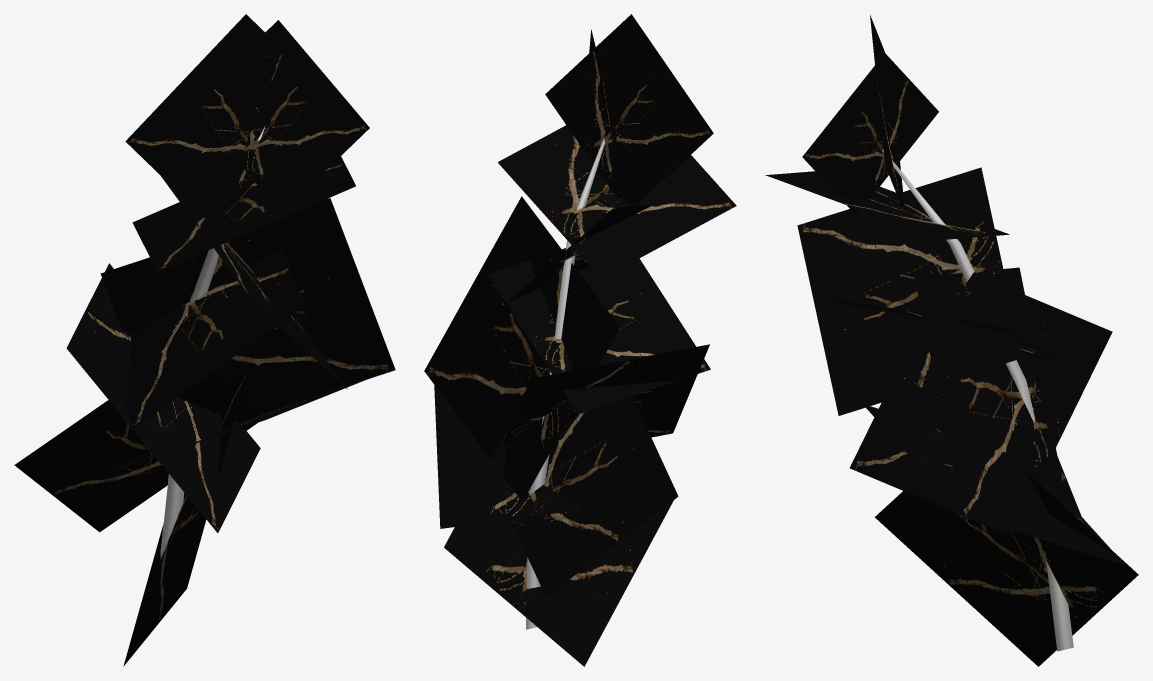
File: tannenzweig 1.fbx
The picture shows the model from 3 angles, left to right: view 1: azimuth 30°, elevation 25°; view 2: azimuth 150°, elevation 25°; view 3: azimuth 270°, elevation 25°; orthographic projection. The views are drawn at different scales.
Parts seen in each view (by area): view 1: Circle_002; view 2: Circle_002; view 3: Circle_002.
Part boxes in pixels (x1=…): Circle_002: x1=14, y1=14, x2=395, y2=666; Circle_002: x1=424, y1=14, x2=736, y2=666; Circle_002: x1=765, y1=15, x2=1138, y2=666.
Bounding box in the file's own units: 3.87 × 7.65 × 3.88.
